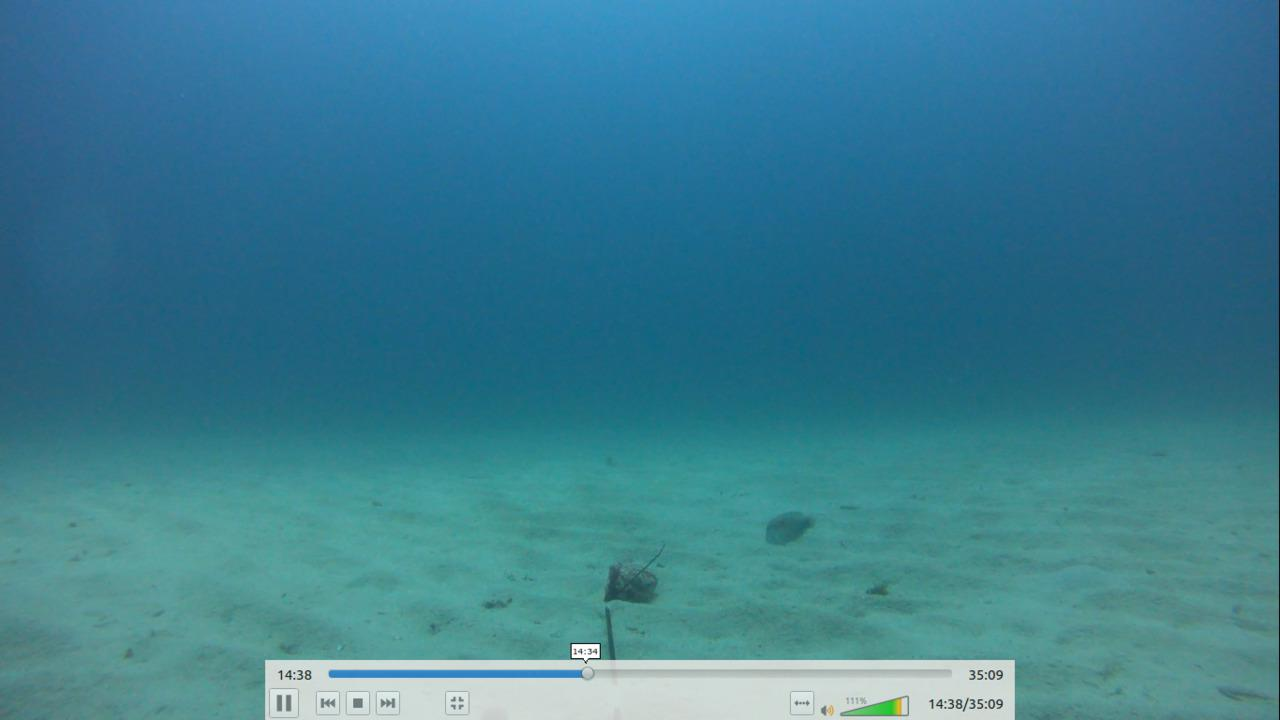raor: (756, 505, 819, 551)
